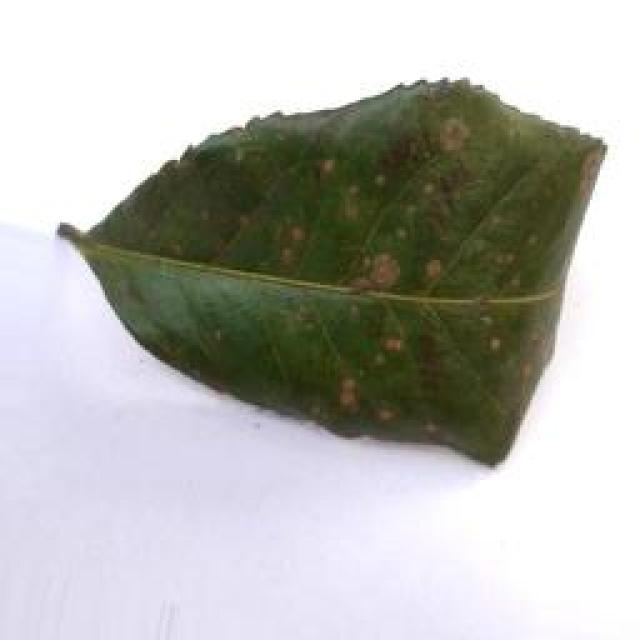Algal Leaf Spot: (27, 68, 610, 463)
